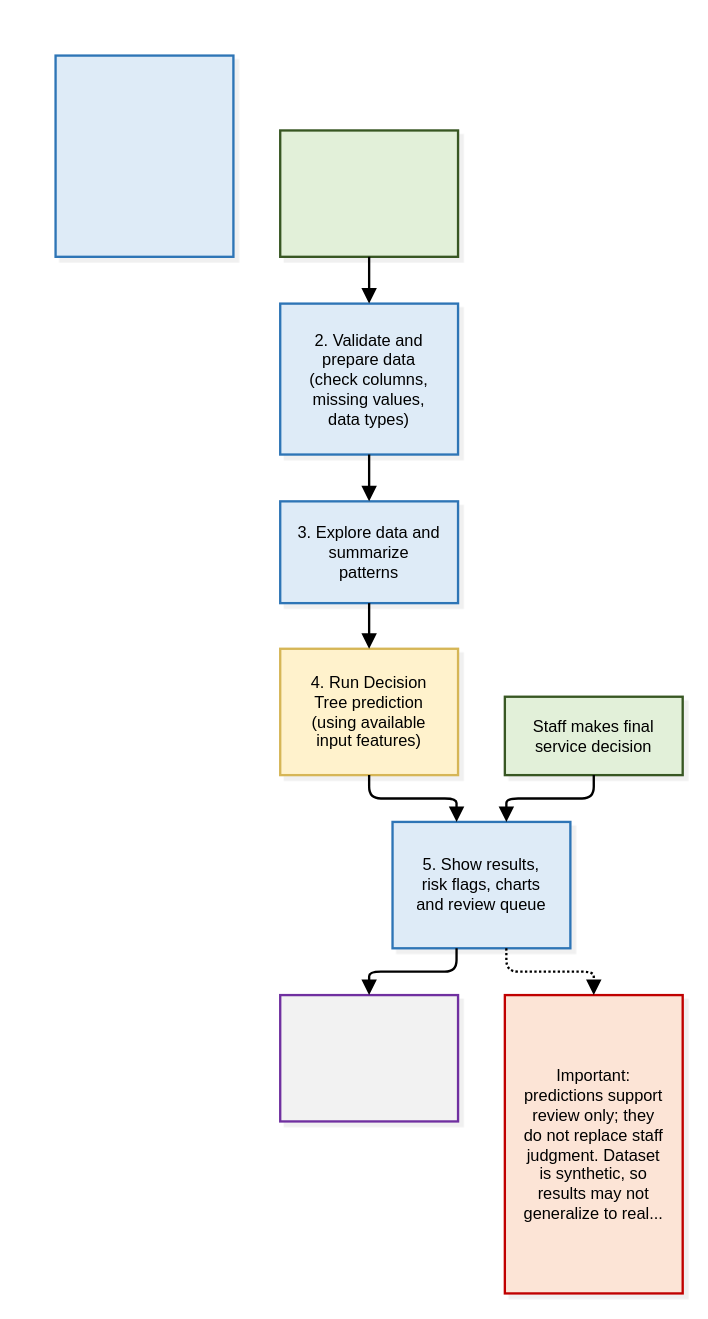
The diagram is 708 pixels wide and 1319 high, and some of its shapes have lost their labels. Here are the shapes that lost their labels. From the top down, the centre of each, then its label:
[146,158]: Student Service Request Monitoring System Decision-support workflow
[370,195]: 1. Load service-request dataset (CSV or project data)
[370,1060]: Authorized staff reviews prediction and source data
